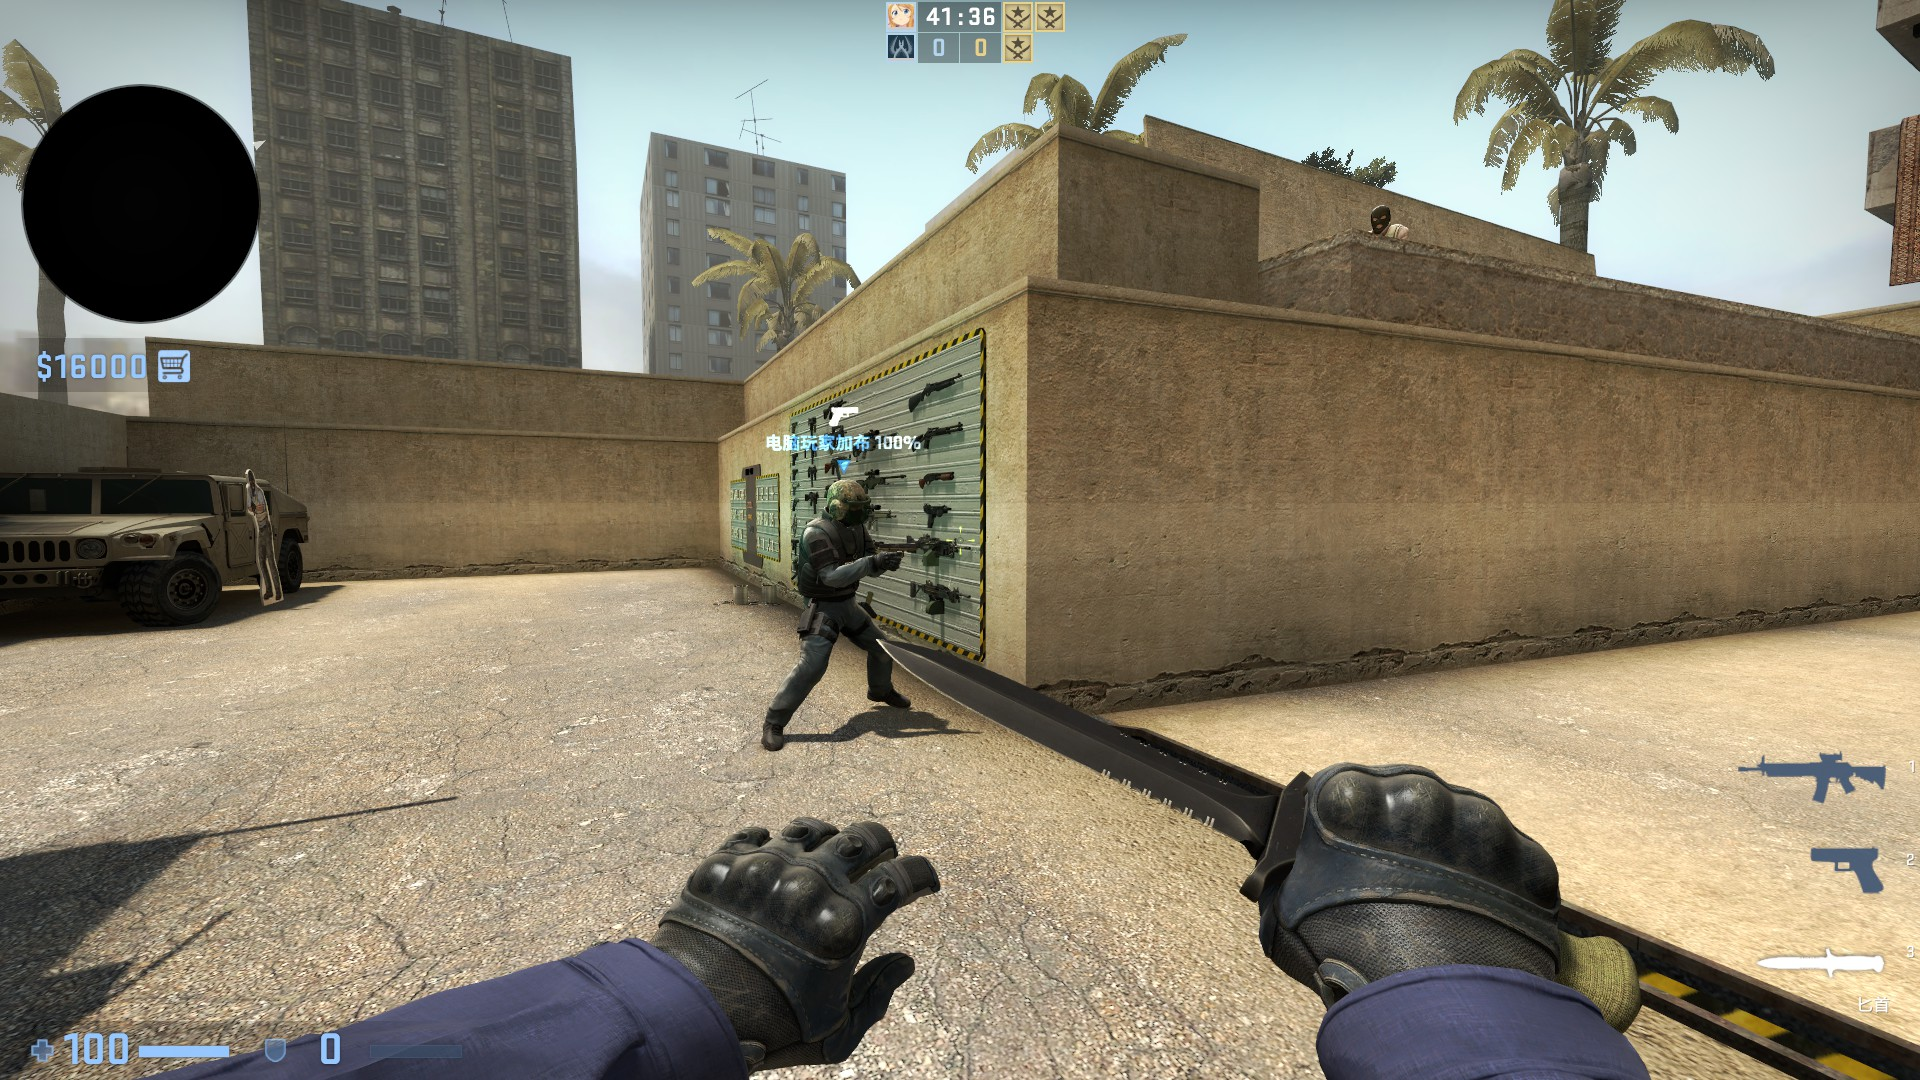head: (816, 473, 881, 536), (1368, 200, 1393, 233), (245, 468, 257, 494)
